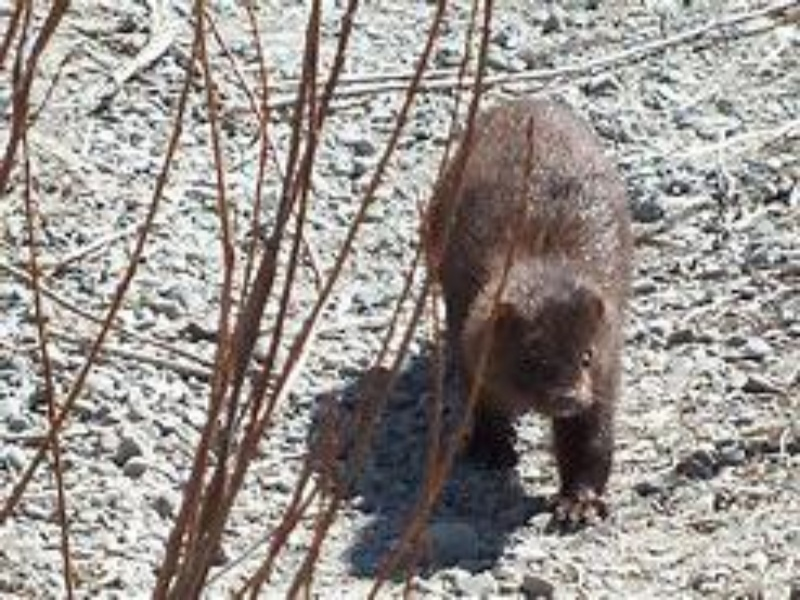minkish: (422, 89, 640, 530)
